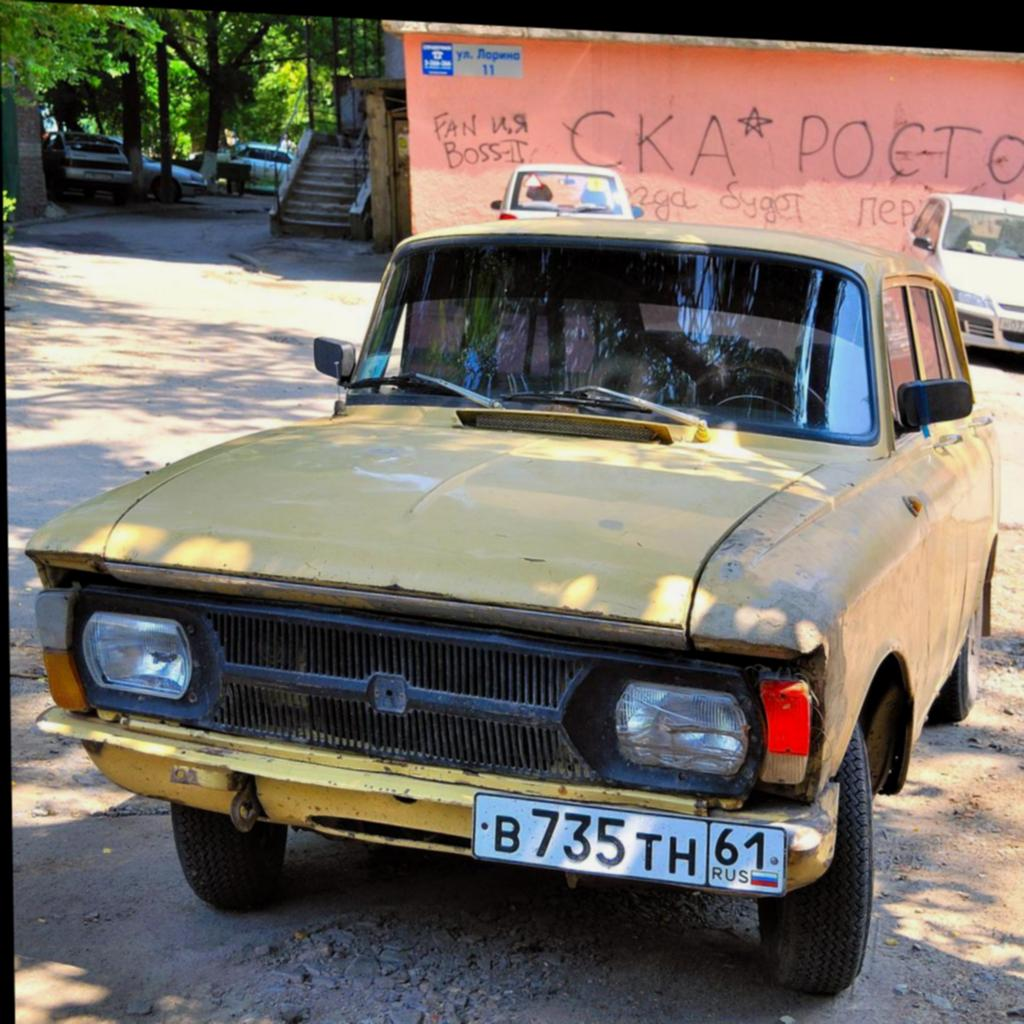License_Plate: (472, 793, 790, 896)
